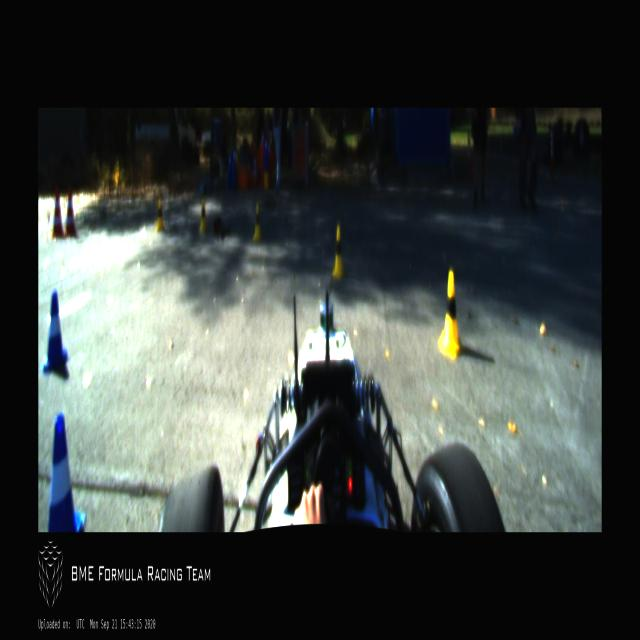blue_cone: (48, 414, 86, 532), (42, 291, 68, 371)
large_orange_cone: (53, 188, 64, 236), (66, 188, 76, 234)
yellow_cone: (439, 270, 461, 359), (332, 224, 344, 278), (254, 203, 262, 240), (156, 199, 164, 231), (200, 199, 207, 231)
